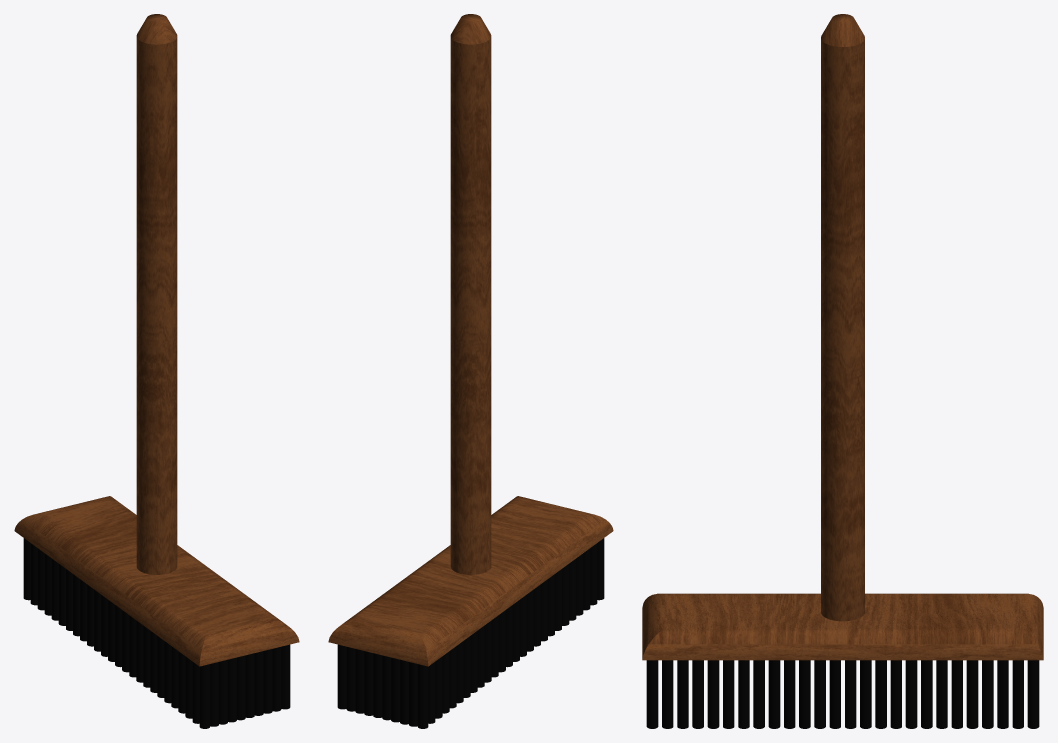
Rendered from Broom.fbx.
3 views of the same model, side by side, from view 1: azimuth 30°, elevation 25°; view 2: azimuth 150°, elevation 25°; view 3: azimuth 270°, elevation 25° (orthographic). The views are drawn at different scales.
Parts seen in each view (by area): view 1: Cube, Cylinder.002; view 2: Cube, Cylinder.002; view 3: Cube, Cylinder.002.
Boxes of the visible parts, box(x1,y1,x2,y2) form: Cube: box(14, 496, 299, 728); Cylinder.002: box(136, 14, 177, 574); Cube: box(328, 496, 613, 728); Cylinder.002: box(450, 14, 491, 574); Cube: box(642, 593, 1043, 728); Cylinder.002: box(821, 14, 864, 621).
Size of the model in its own units: 36.01 by 218 by 115.
